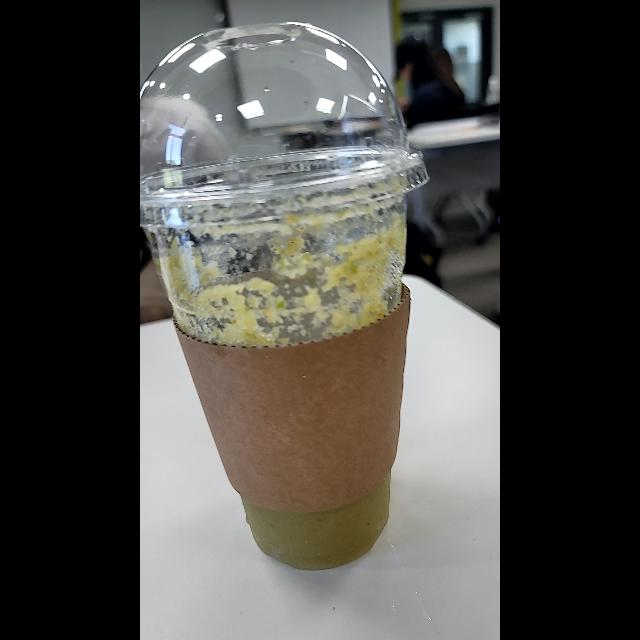plastic_cup: (140, 20, 434, 574)
plastic_cup_lid: (140, 17, 424, 230)
